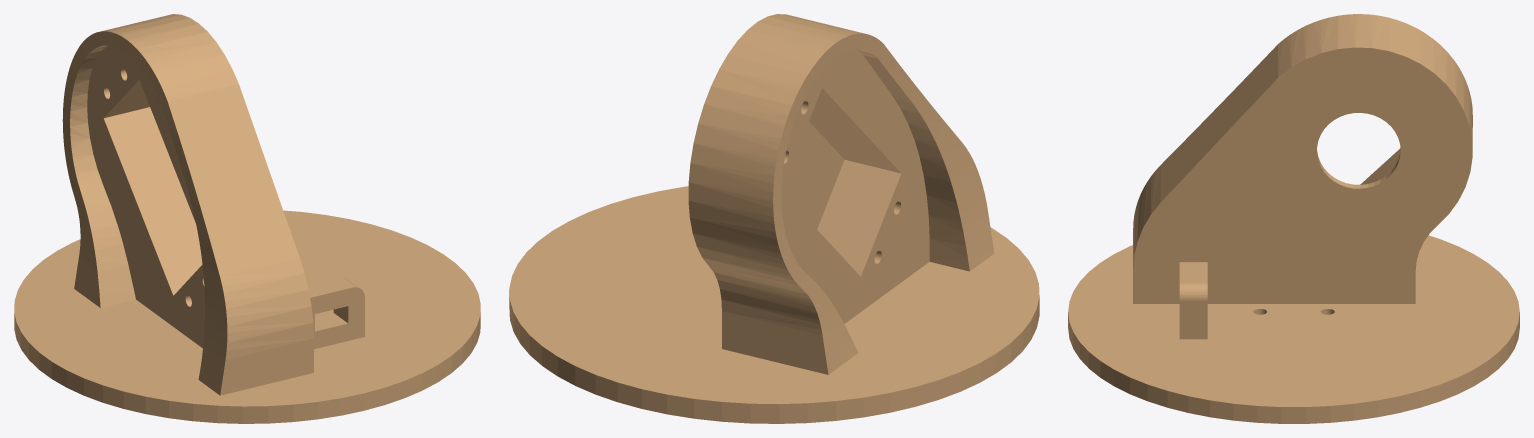
File: case-01_lib00003.glb
The picture shows the model from 3 angles, left to right: view 1: azimuth 30°, elevation 25°; view 2: azimuth 150°, elevation 25°; view 3: azimuth 270°, elevation 25°; orthographic projection. The views are drawn at different scales.
Parts seen in each view (by area): view 1: lib00003; view 2: lib00003; view 3: lib00003.
Boxes of the visible parts, left/top/right/bottom form: lib00003: left=14, top=14, right=480, bottom=423; lib00003: left=509, top=14, right=1039, bottom=423; lib00003: left=1068, top=14, right=1519, bottom=423.
Size of the model in its own units: 77.89 by 52.09 by 78.
